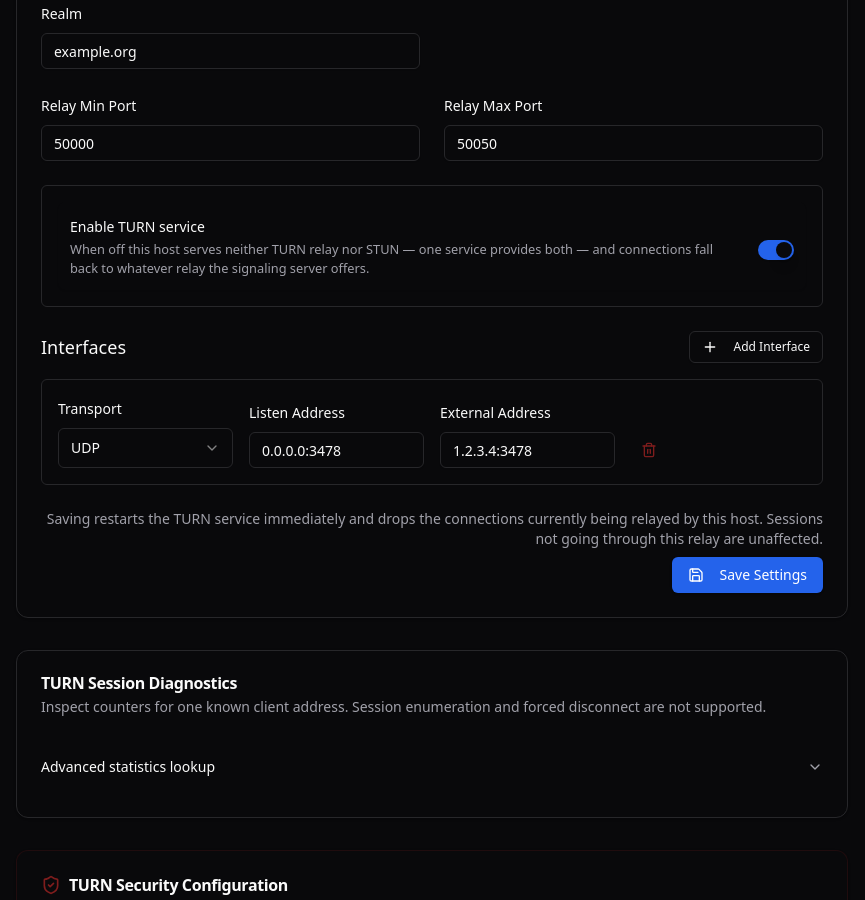
Test case: TurnSettings — interface addresses › refuses an address the server would reject
(page scrolled)
Type "relay.example.com:3478" into the field showing "1.2.3.4:3478" at {"x": 528, "y": 450}, box [440,432,615,468]
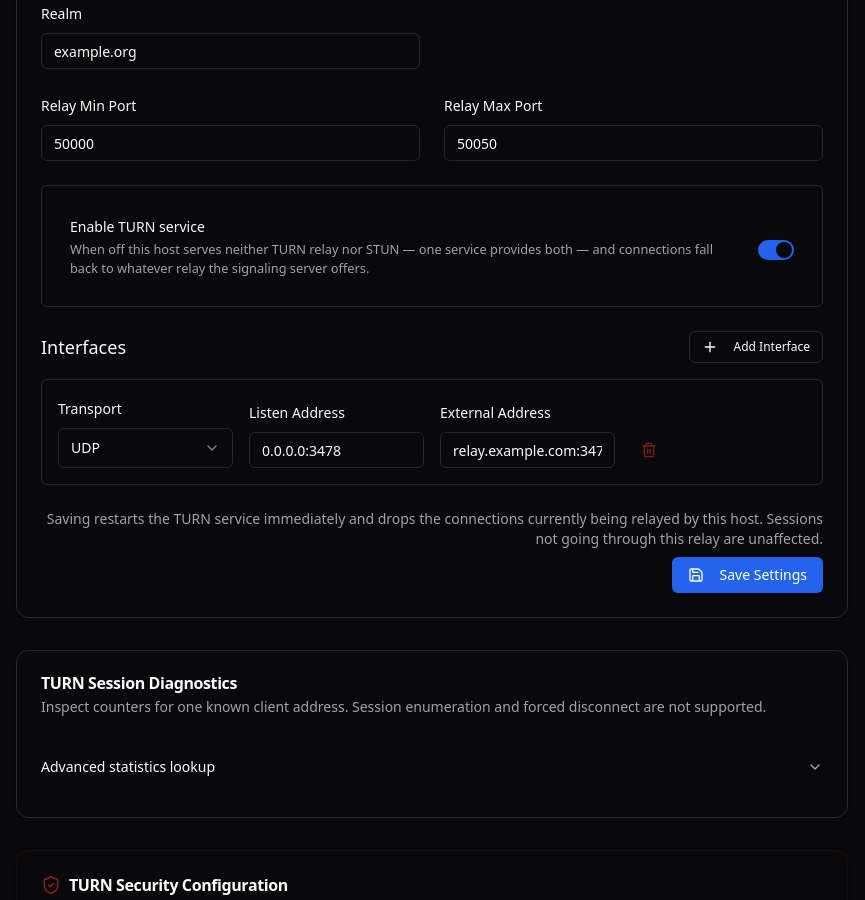
Click the button "Save Settings" at {"x": 747, "y": 575}, box [672,557,823,593]
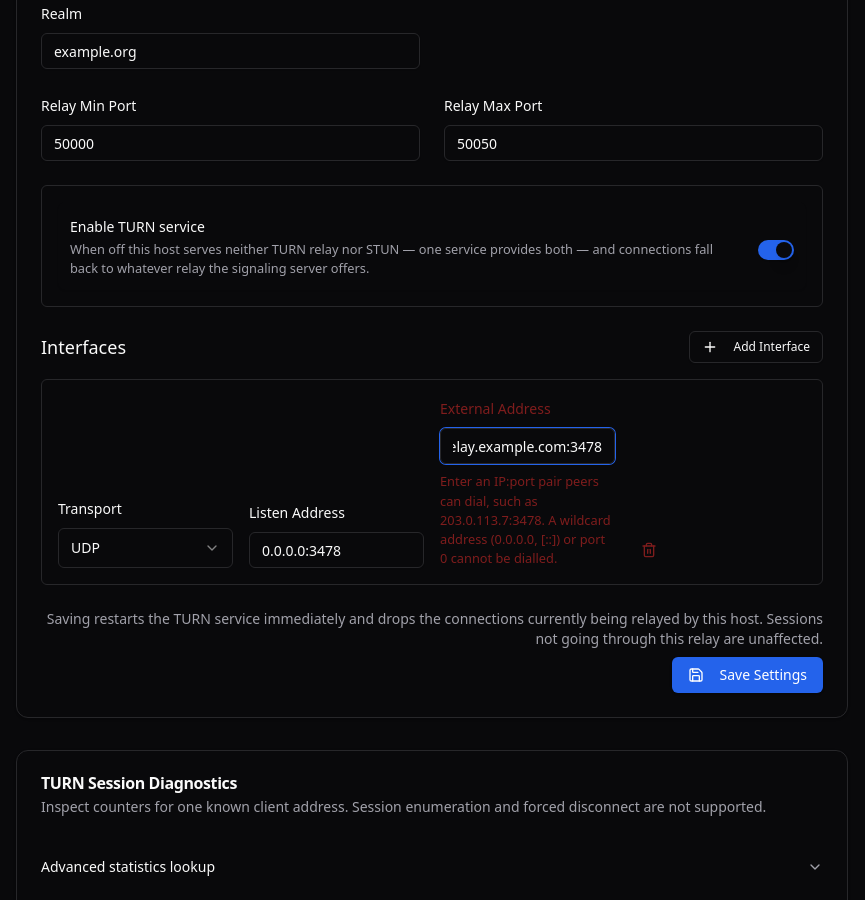
Expected: the text "peers can dial" is shown, [440,472,611,567]
